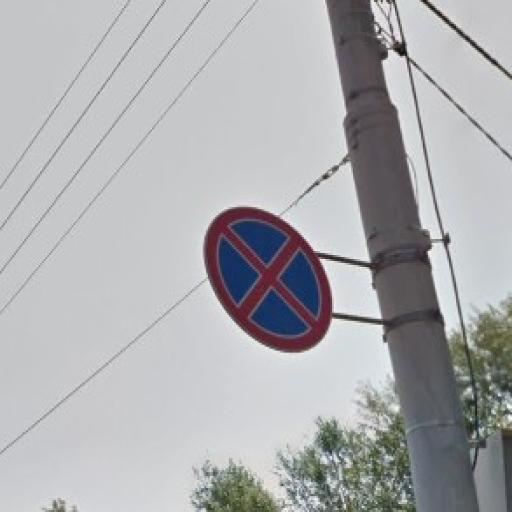traffic_sign: (202, 204, 333, 352)
